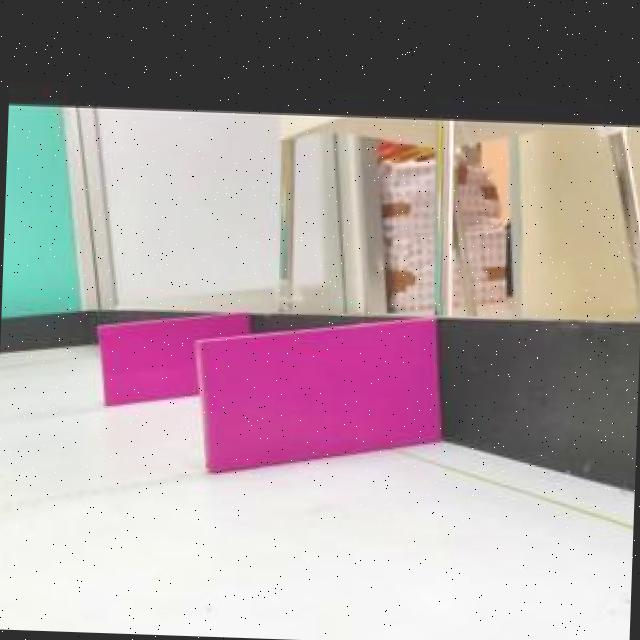xparking: (198, 319, 442, 474), (99, 316, 195, 404)
